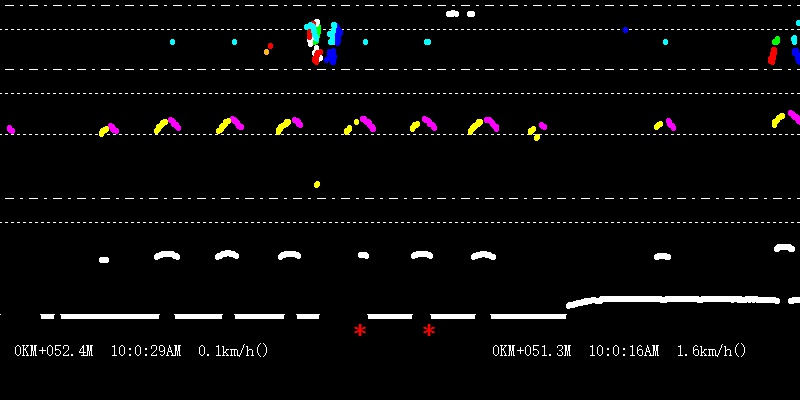J: (305, 3, 344, 64)
first: (443, 2, 484, 27)
star: (421, 321, 436, 341), (352, 320, 368, 338)
y_p: (141, 108, 506, 274)
